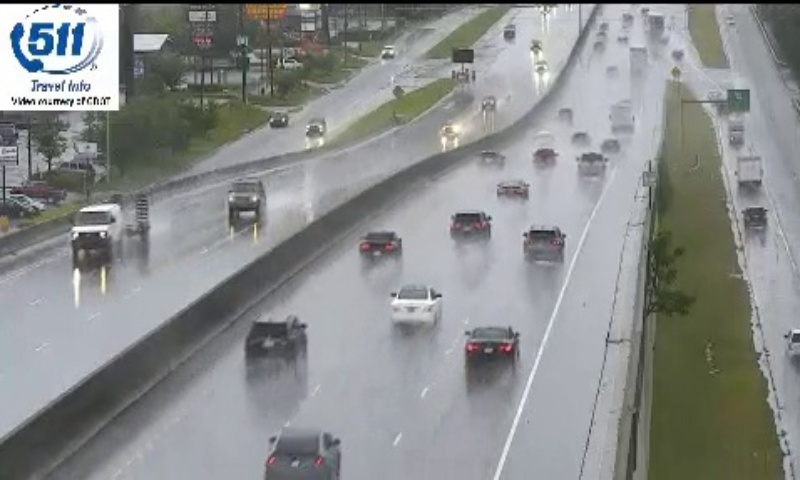car: (266, 428, 339, 480), (246, 314, 306, 361), (466, 327, 518, 367), (391, 285, 441, 325), (523, 226, 565, 262), (359, 232, 403, 262), (450, 211, 490, 243)
